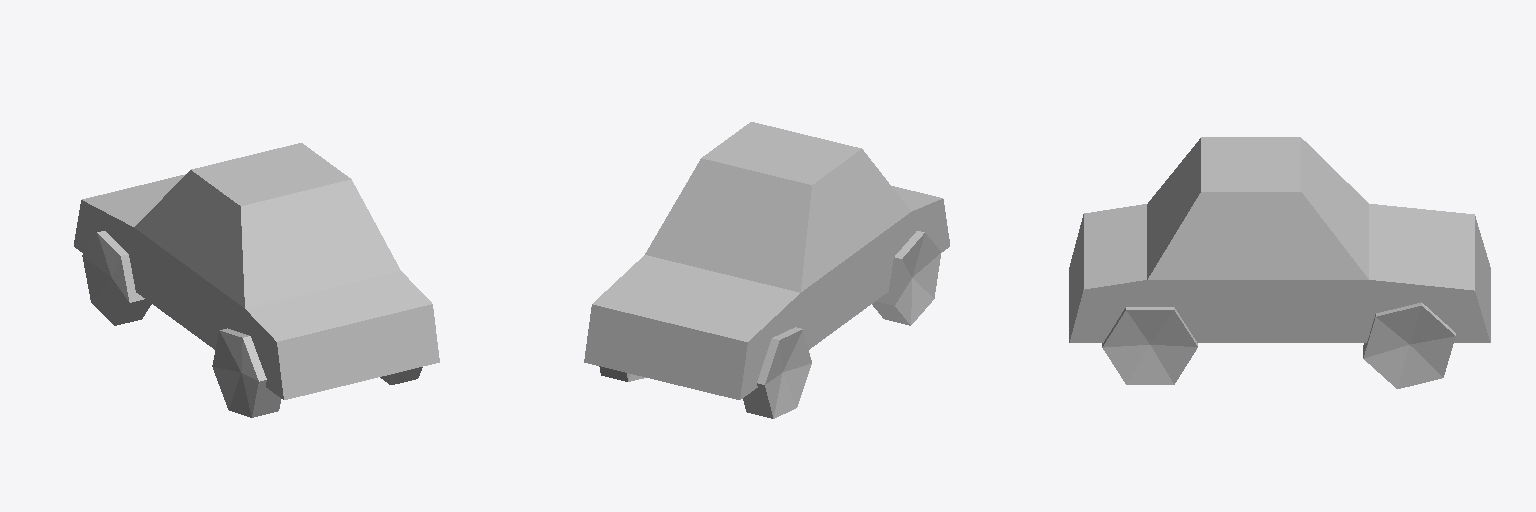
Rendered from car.obj.
3 renders of one model, left to right at view 1: azimuth 30°, elevation 25°; view 2: azimuth 150°, elevation 25°; view 3: azimuth 270°, elevation 25°, orthographic.
Visible parts, largest first — view 1: car; view 2: car; view 3: car.
Boxes of the visible parts, x1=… form: car: x1=74, y1=143, x2=439, y2=417; car: x1=584, y1=122, x2=949, y2=418; car: x1=1069, y1=137, x2=1490, y2=388.
Bounding box in the file's own units: 2.19 × 2.25 × 4.68.